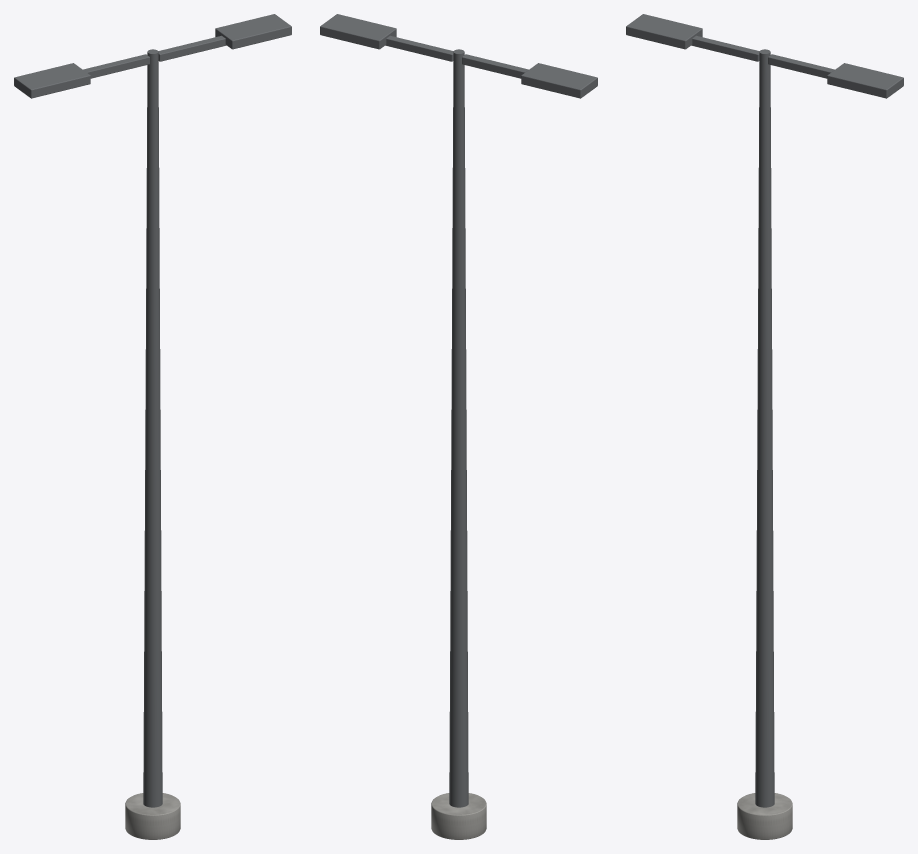
The model's file is light_pole_double.glb.
The picture shows the model from 3 angles, left to right: view 1: azimuth 30°, elevation 25°; view 2: azimuth 150°, elevation 25°; view 3: azimuth 330°, elevation 25°; orthographic projection.
Parts seen in each view (by area): view 1: light_pole_double.001; view 2: light_pole_double.001; view 3: light_pole_double.001.
Boxes of the visible parts, box(x1,y1,x2,y2) form: light_pole_double.001: box(14, 14, 291, 839); light_pole_double.001: box(320, 14, 597, 839); light_pole_double.001: box(626, 14, 903, 839).
Size of what is drawn, in the model's own units: 2.18 by 6.2 by 0.4.
3 materials, 1 textured.
